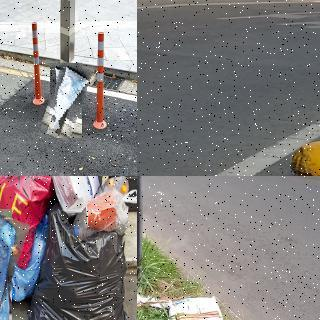Garbage: (30, 205, 131, 320), (0, 176, 52, 268), (45, 62, 87, 139), (164, 291, 236, 320), (45, 176, 96, 212)
